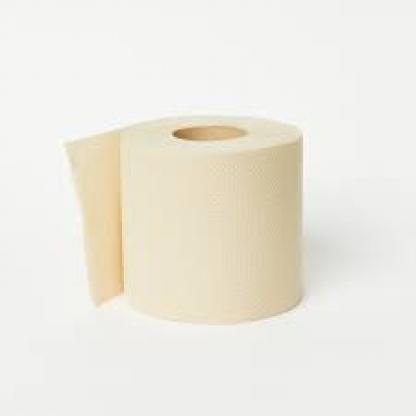tissue: (59, 99, 327, 349)
